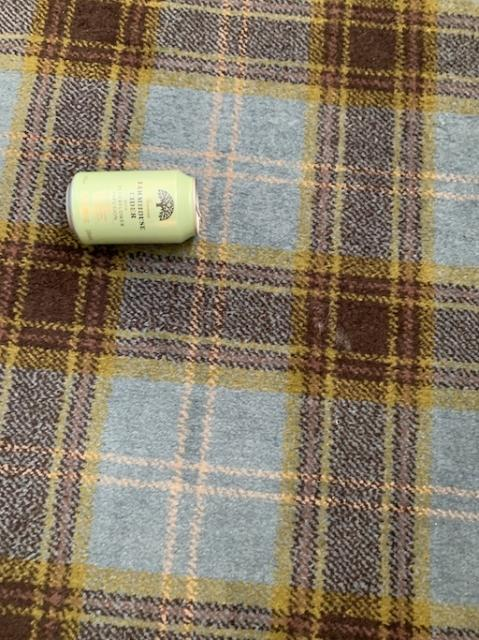metal: (66, 169, 198, 243)
